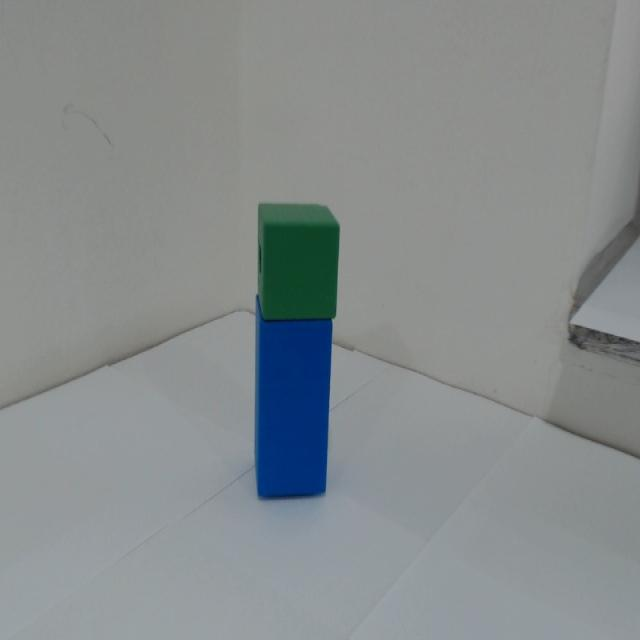cube: (249, 203, 345, 323)
